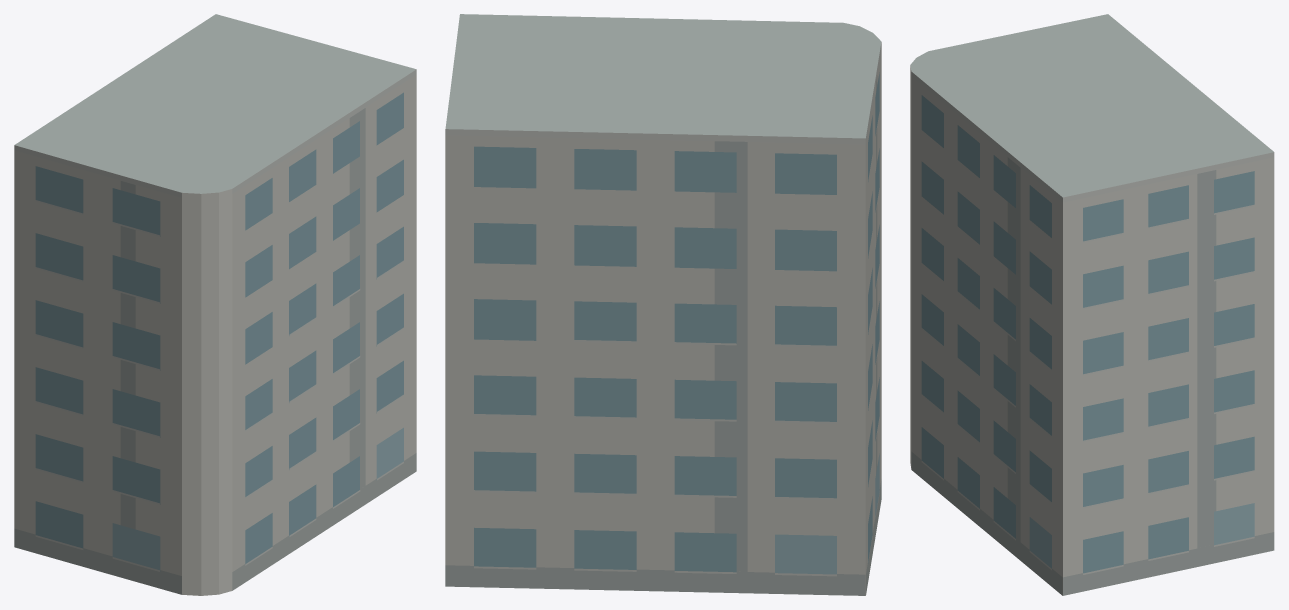
Rendered from survey-upis-32710321.glb.
3 views of the same model, side by side, from view 1: azimuth 30°, elevation 25°; view 2: azimuth 150°, elevation 25°; view 3: azimuth 270°, elevation 25° (orthographic). The views are drawn at different scales.
Parts seen in each view (by area): view 1: survey-upis-32710321.tmp; view 2: survey-upis-32710321.tmp; view 3: survey-upis-32710321.tmp.
Boxes of the visible parts, x1,y1,x2,y2 form: survey-upis-32710321.tmp: (14,14,416,595); survey-upis-32710321.tmp: (445,14,881,595); survey-upis-32710321.tmp: (910,14,1274,595).
Size of the model in its own units: 18.09 by 18.3 by 15.16.
